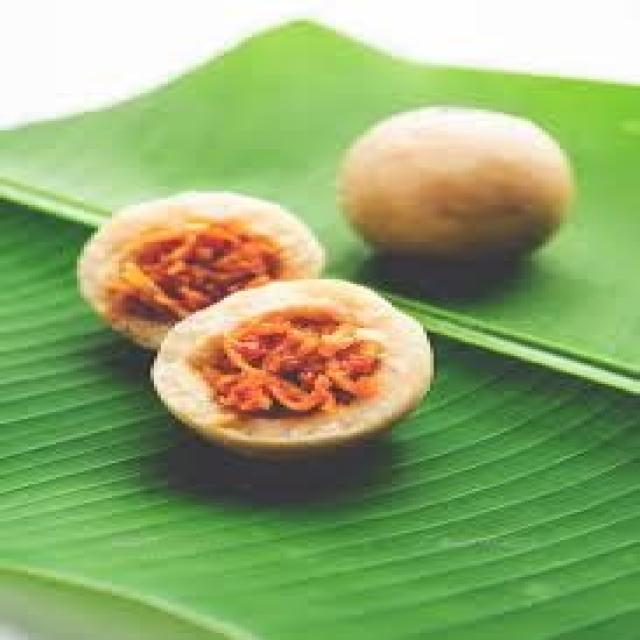poorna kolukattai: (58, 117, 603, 467)
